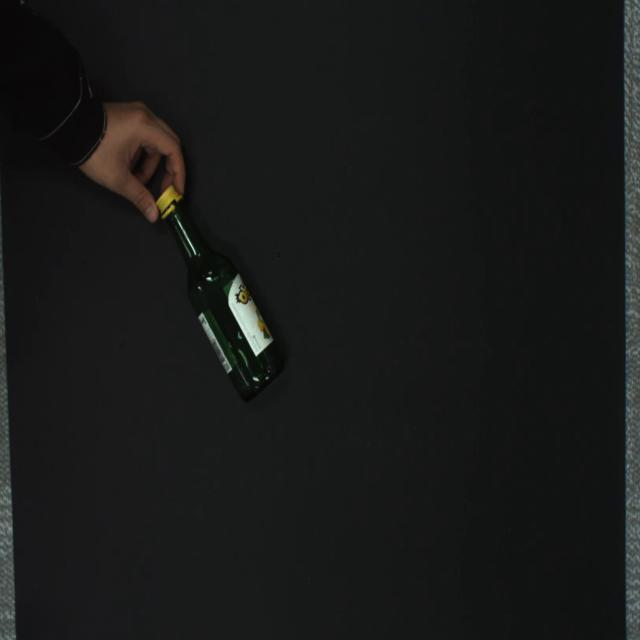soju-bottle: (156, 185, 285, 401)
